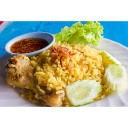briyani: (5, 53, 105, 103)
